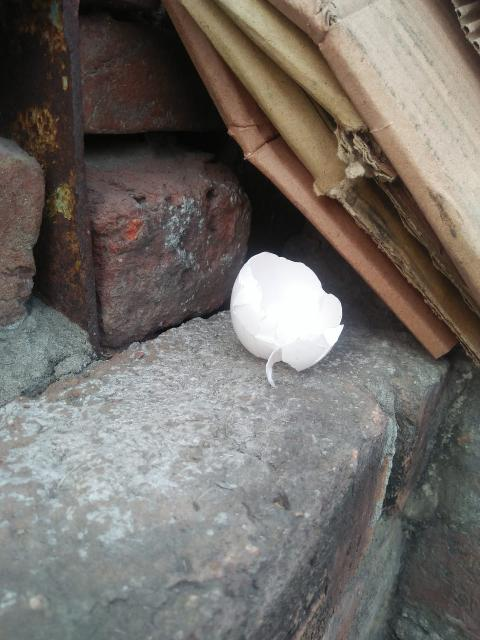Roto: (226, 251, 345, 387)
